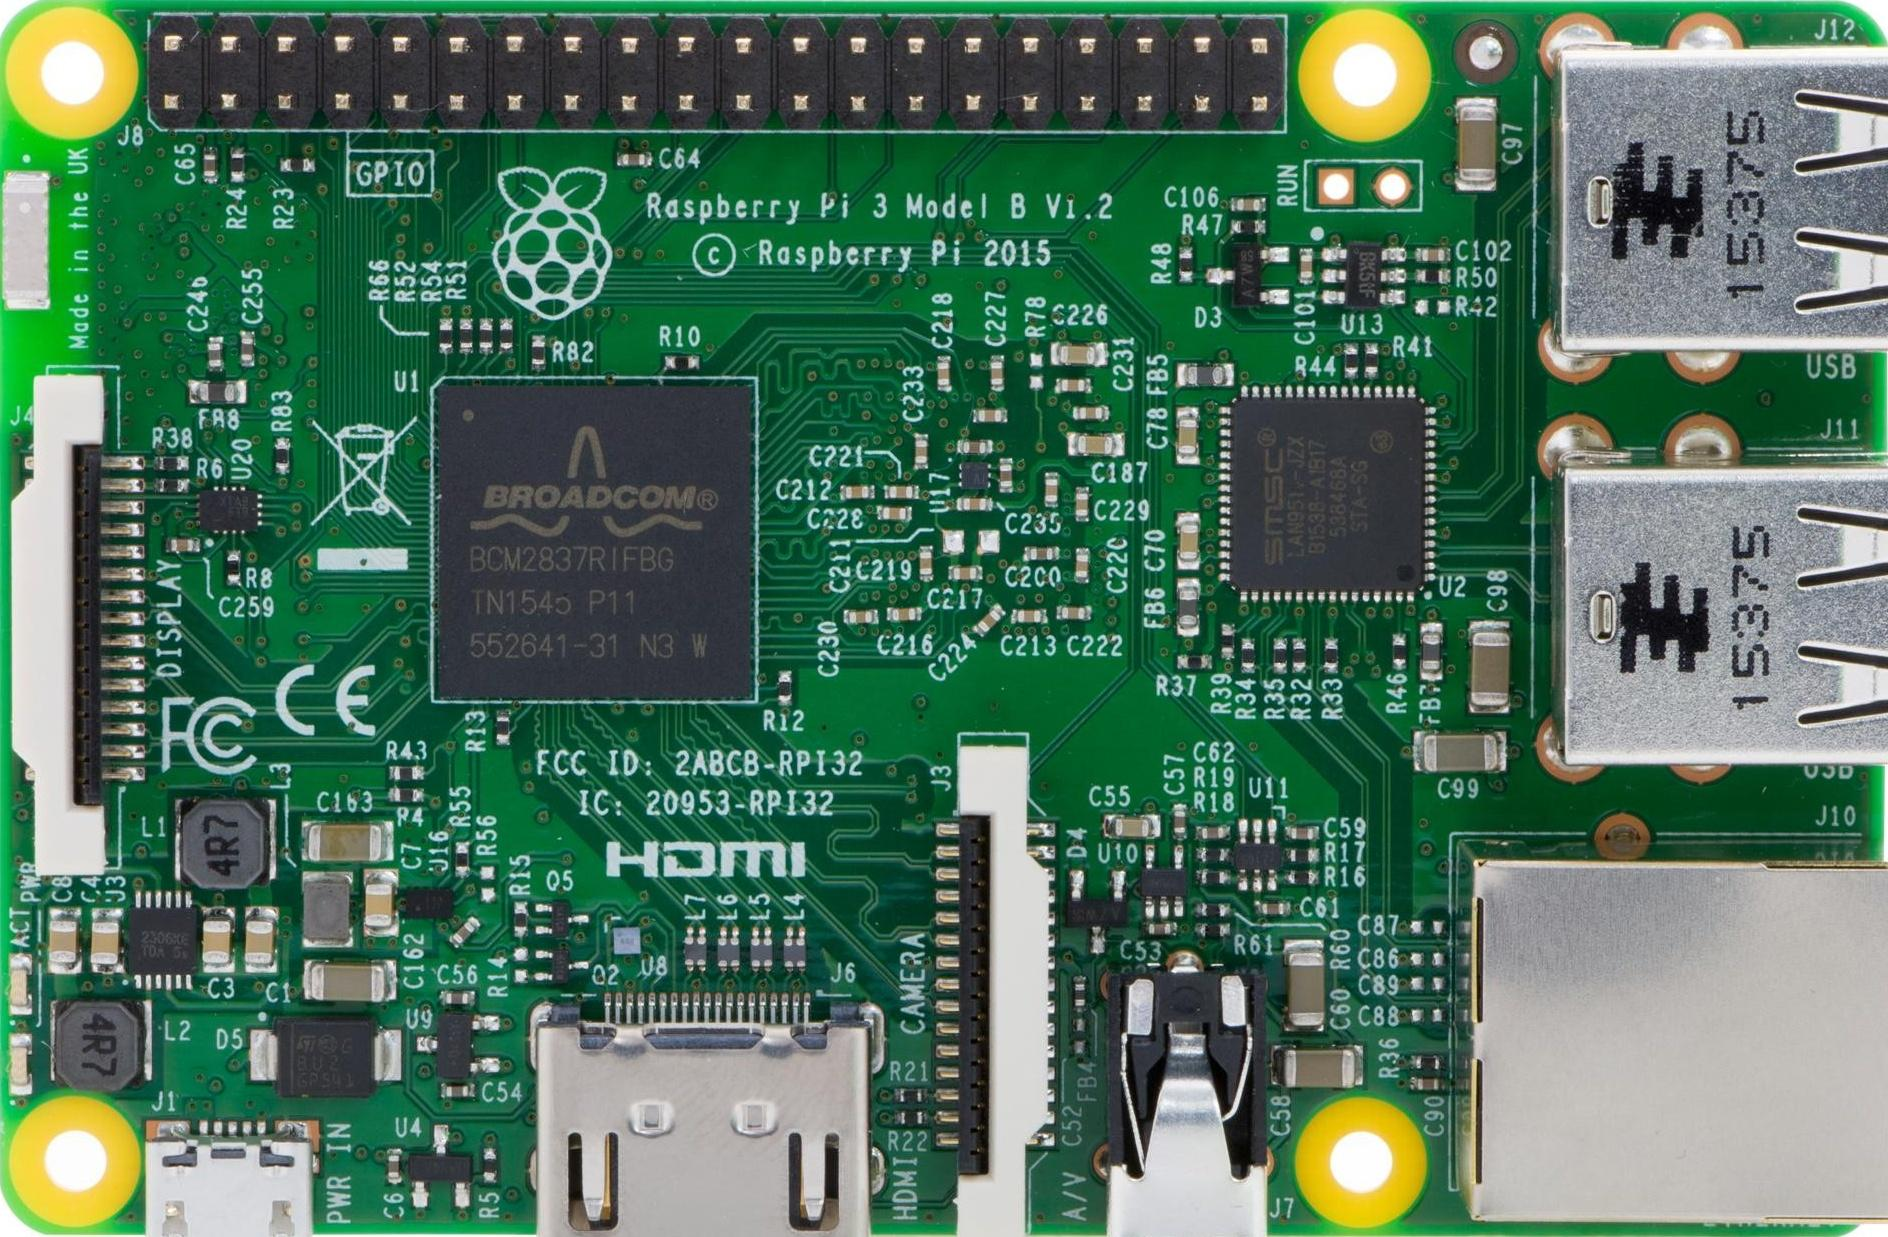tranzystor: (530, 948, 591, 987), (534, 902, 592, 940)
